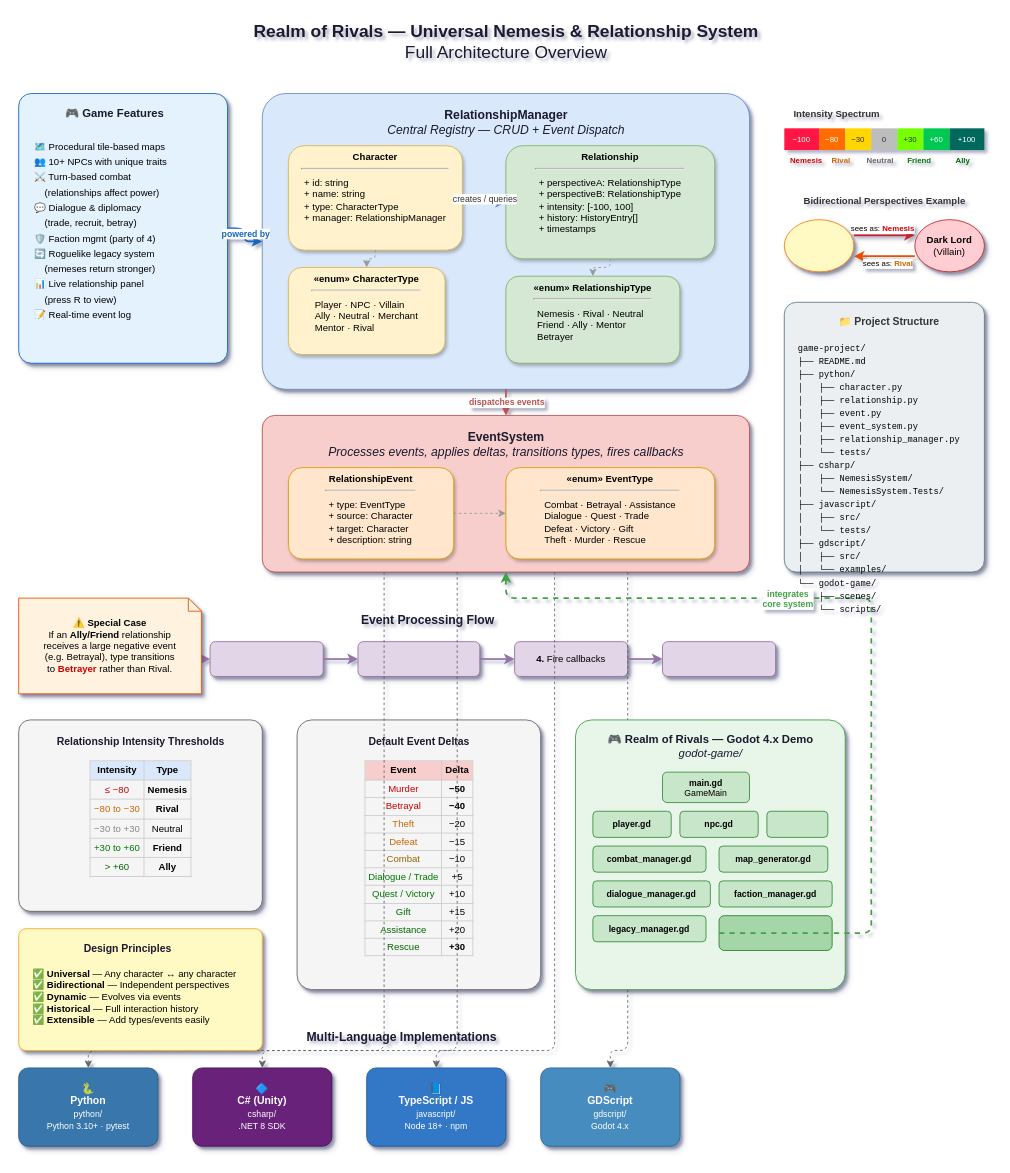
Image size: 1010x1173. Some labels were removed from this diagram. The centre of each missing label's shape, as x and y in pixels:
"2. Apply delta to intensity" goes at point 267,660.
"3. Check threshold transition" goes at point 419,660.
"5. Log to history" goes at point 719,660.
"Hero (Player)" goes at point 819,246.
"hud.gd" goes at point 797,823.
"relationship/ (from gdscript/src/)" goes at point 775,932.
